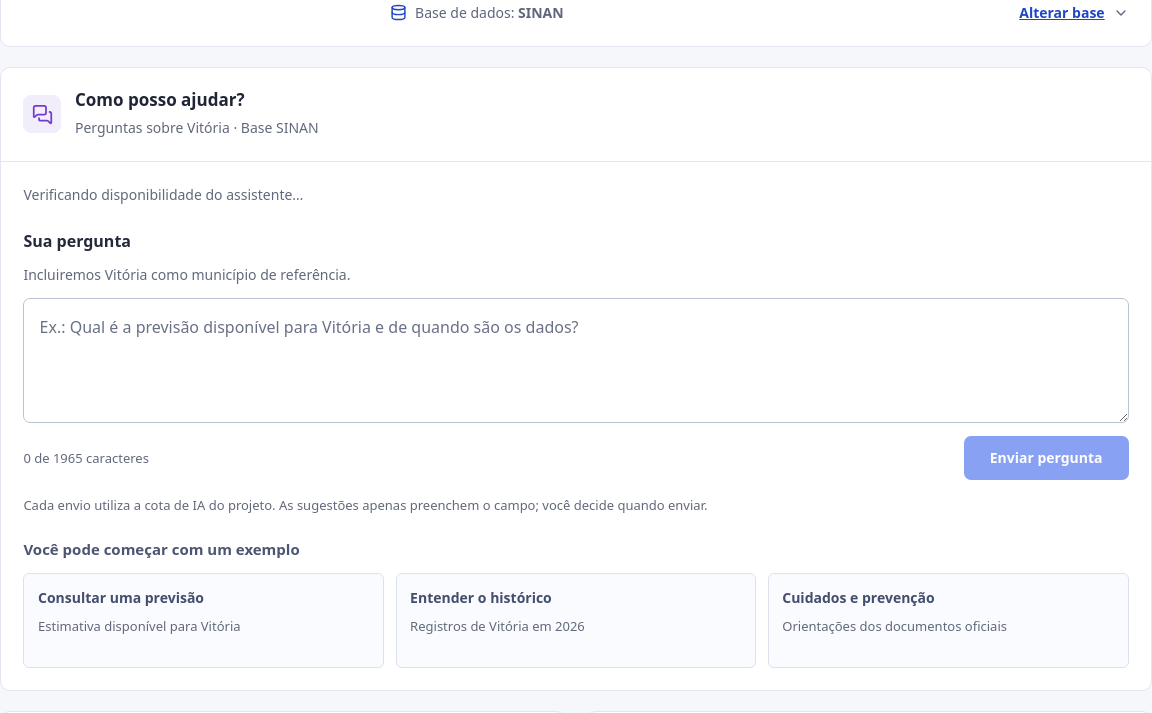
Test: conversa do assistente, sem chamadas externas › envia a pergunta pelo formulário público sem etapa de acesso
(page scrolled)
Replace the text in the text box labelled "Sua pergunta" with "Pergunta fictícia." at point(576, 361), box [23, 298, 1129, 423]
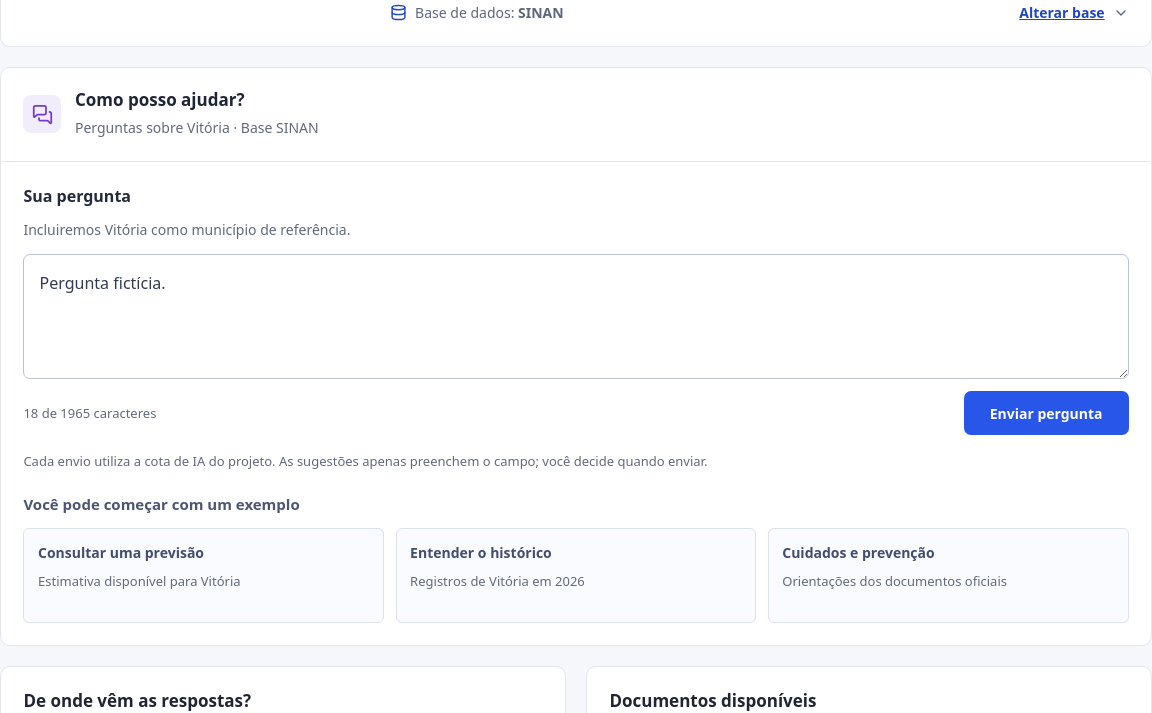
Check: the button "Enviar pergunta" is enabled
Click the button "Enviar pergunta".
click(1046, 413)  # box [964, 391, 1129, 435]
(page scrolled)
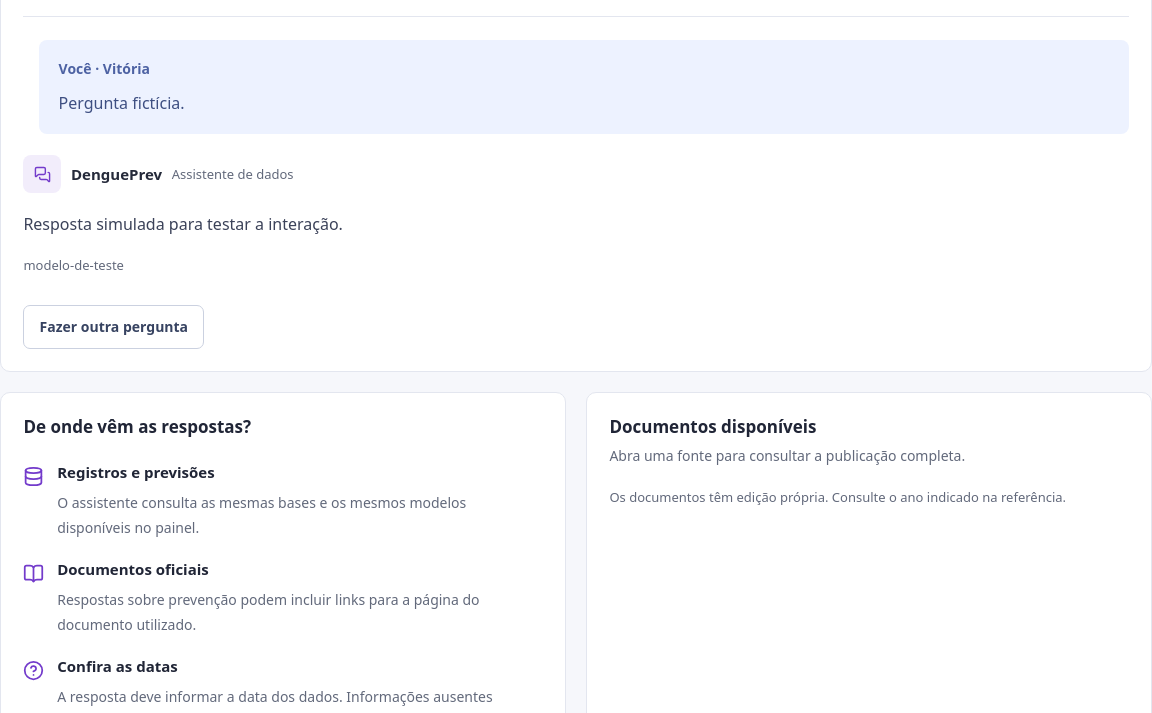
Check: the text "Resposta simulada para testar a interação." is shown, box [23, 213, 343, 235]
